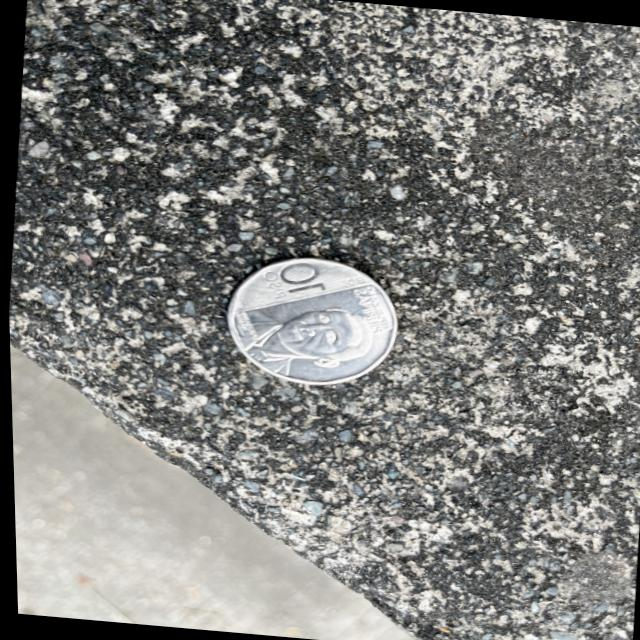10_New_Front: (255, 258, 335, 304)
